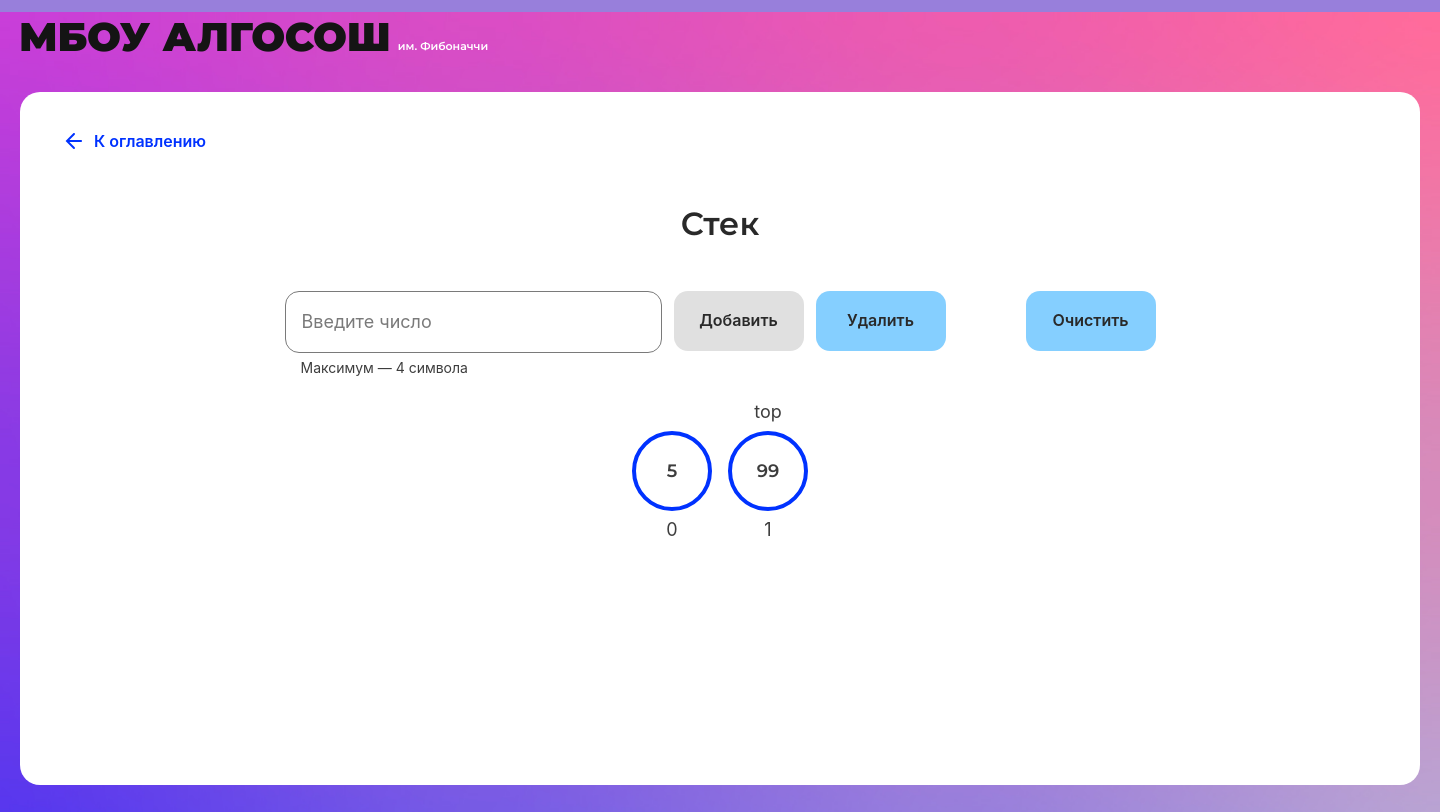
Test: stack › clear
The width and height of the screenshot is (1440, 812).
Expected: the number of elements with test id "circle" is 2, top-left (632, 431), bottom-right (712, 511); top-left (728, 431), bottom-right (808, 511)
Expected: the button with test id "stack-add" is disabled, top-left (674, 291), bottom-right (804, 351)
Click the button with test id "stack-clear". click: (1091, 321)
box: top-left (1026, 291), bottom-right (1156, 351)
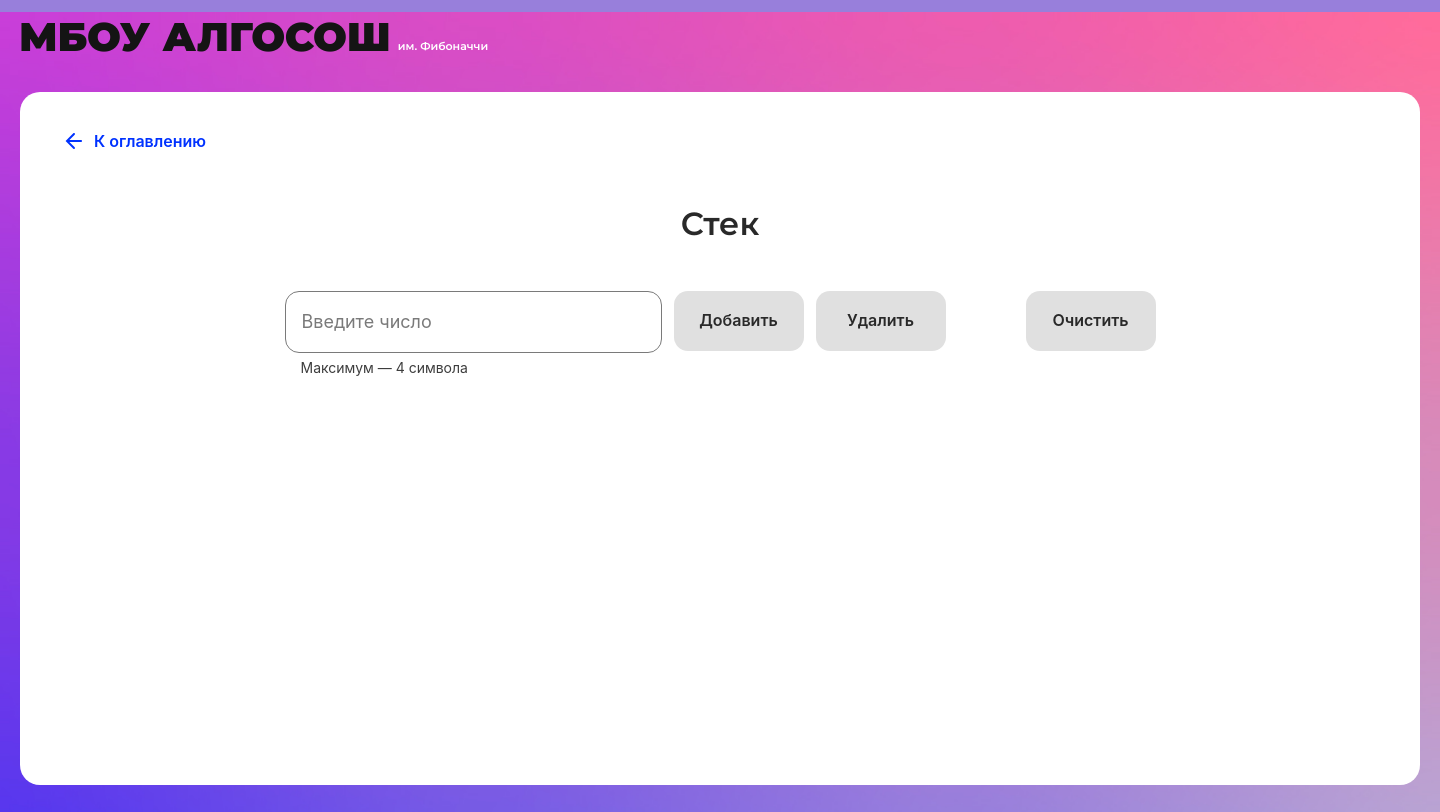
Expected: no elements with test id "circle" are shown
Expected: the button with test id "stack-delete" is disabled, top-left (816, 291), bottom-right (946, 351)
Expected: the button with test id "stack-clear" is disabled, top-left (1026, 291), bottom-right (1156, 351)
